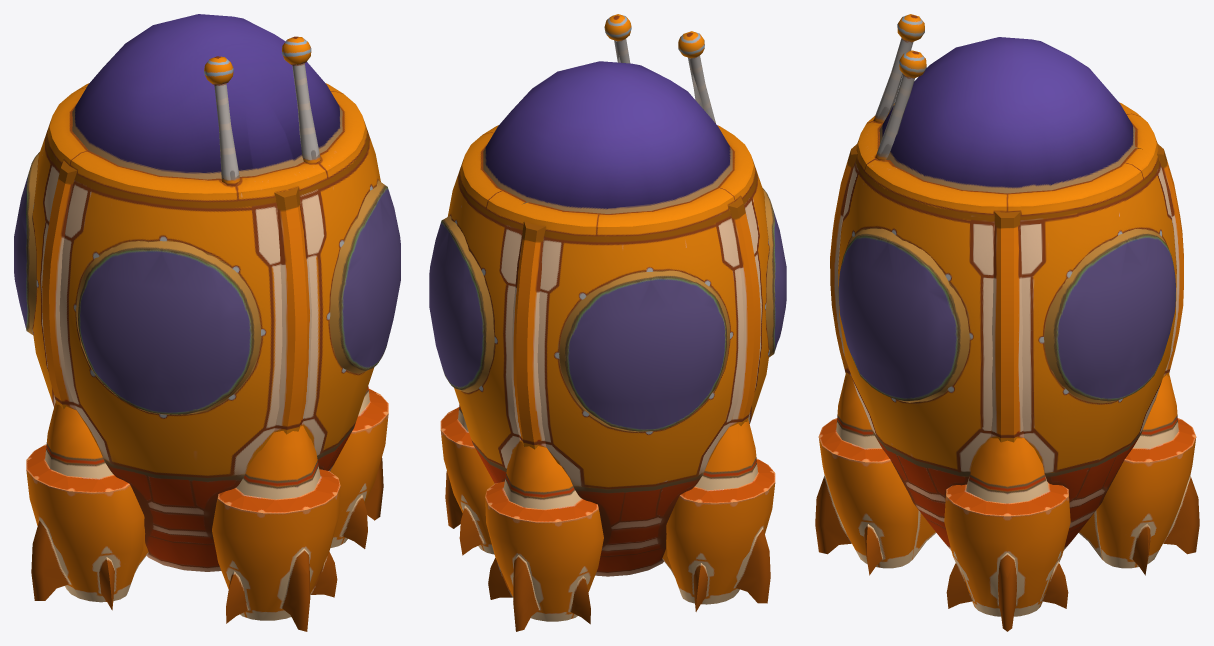
File: rocket.FBX
3 renders of one model, left to right at view 1: azimuth 30°, elevation 25°; view 2: azimuth 150°, elevation 25°; view 3: azimuth 270°, elevation 25°, orthographic. The views are drawn at different scales.
Parts seen in each view (by area): view 1: body, glass, window_004, exhaust_02, exhaust_03, borders, window_005, exhaust_00, window_01; view 2: body, glass, window_01, exhaust_01, exhaust_03, borders, window_006, exhaust_00, window_004; view 3: body, glass, exhaust_00, window_005, window_006, exhaust_02, exhaust_01, borders.
Part boxes in pixels (bbox=[...]): body: bbox=[32, 36, 380, 571]; glass: bbox=[72, 14, 342, 179]; window_004: bbox=[76, 241, 260, 414]; exhaust_02: bbox=[212, 425, 340, 631]; exhaust_03: bbox=[26, 401, 148, 610]; borders: bbox=[42, 160, 311, 434]; window_005: bbox=[330, 180, 400, 373]; exhaust_00: bbox=[330, 386, 388, 548]; window_01: bbox=[14, 152, 39, 334]; body: bbox=[447, 14, 769, 576]; glass: bbox=[483, 61, 732, 213]; window_01: bbox=[559, 270, 729, 432]; exhaust_01: bbox=[485, 441, 603, 631]; exhaust_03: bbox=[662, 419, 775, 611]; borders: bbox=[511, 196, 760, 449]; window_006: bbox=[429, 216, 494, 392]; exhaust_00: bbox=[440, 404, 494, 555]; window_004: bbox=[762, 188, 786, 357]; body: bbox=[838, 14, 1176, 550]; glass: bbox=[879, 37, 1137, 193]; exhaust_00: bbox=[944, 438, 1070, 631]; window_005: bbox=[838, 228, 969, 402]; window_006: bbox=[1044, 229, 1175, 402]; exhaust_02: bbox=[815, 374, 936, 575]; exhaust_01: bbox=[1078, 374, 1199, 575]; borders: bbox=[830, 143, 1183, 442].
Bounding box in the file's own units: 80.44 × 120 × 80.44.
